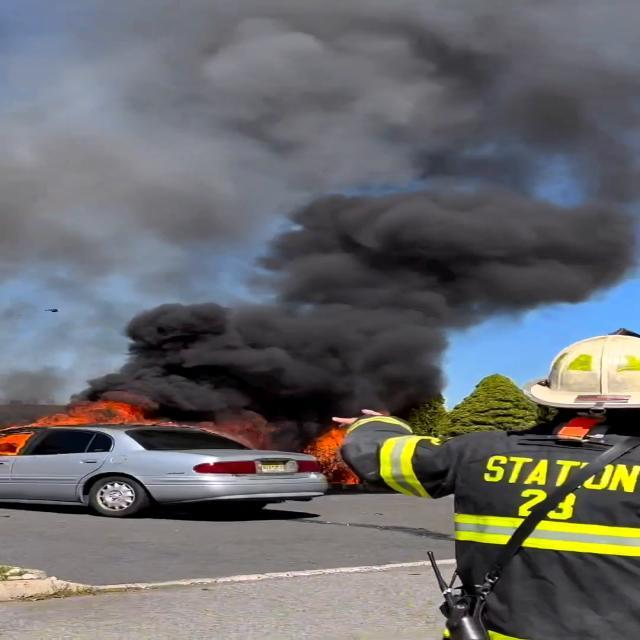Fire: (128, 308, 434, 416)
